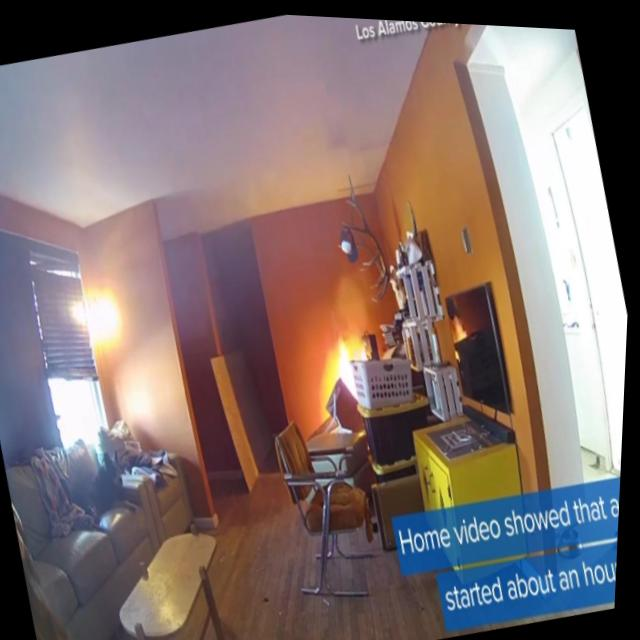fire: (331, 314, 384, 403)
